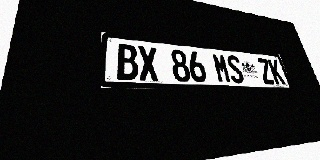6: (186, 51, 208, 82)
8: (170, 49, 191, 82)
B: (116, 43, 139, 81)
K: (267, 59, 286, 85)
M: (212, 53, 232, 83)
S: (225, 55, 245, 84)
X: (137, 46, 159, 81)
Z: (256, 58, 275, 84)
